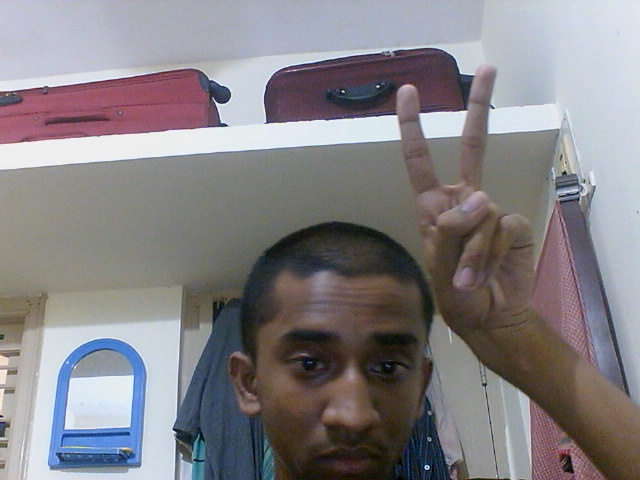hand: (390, 62, 541, 336)
